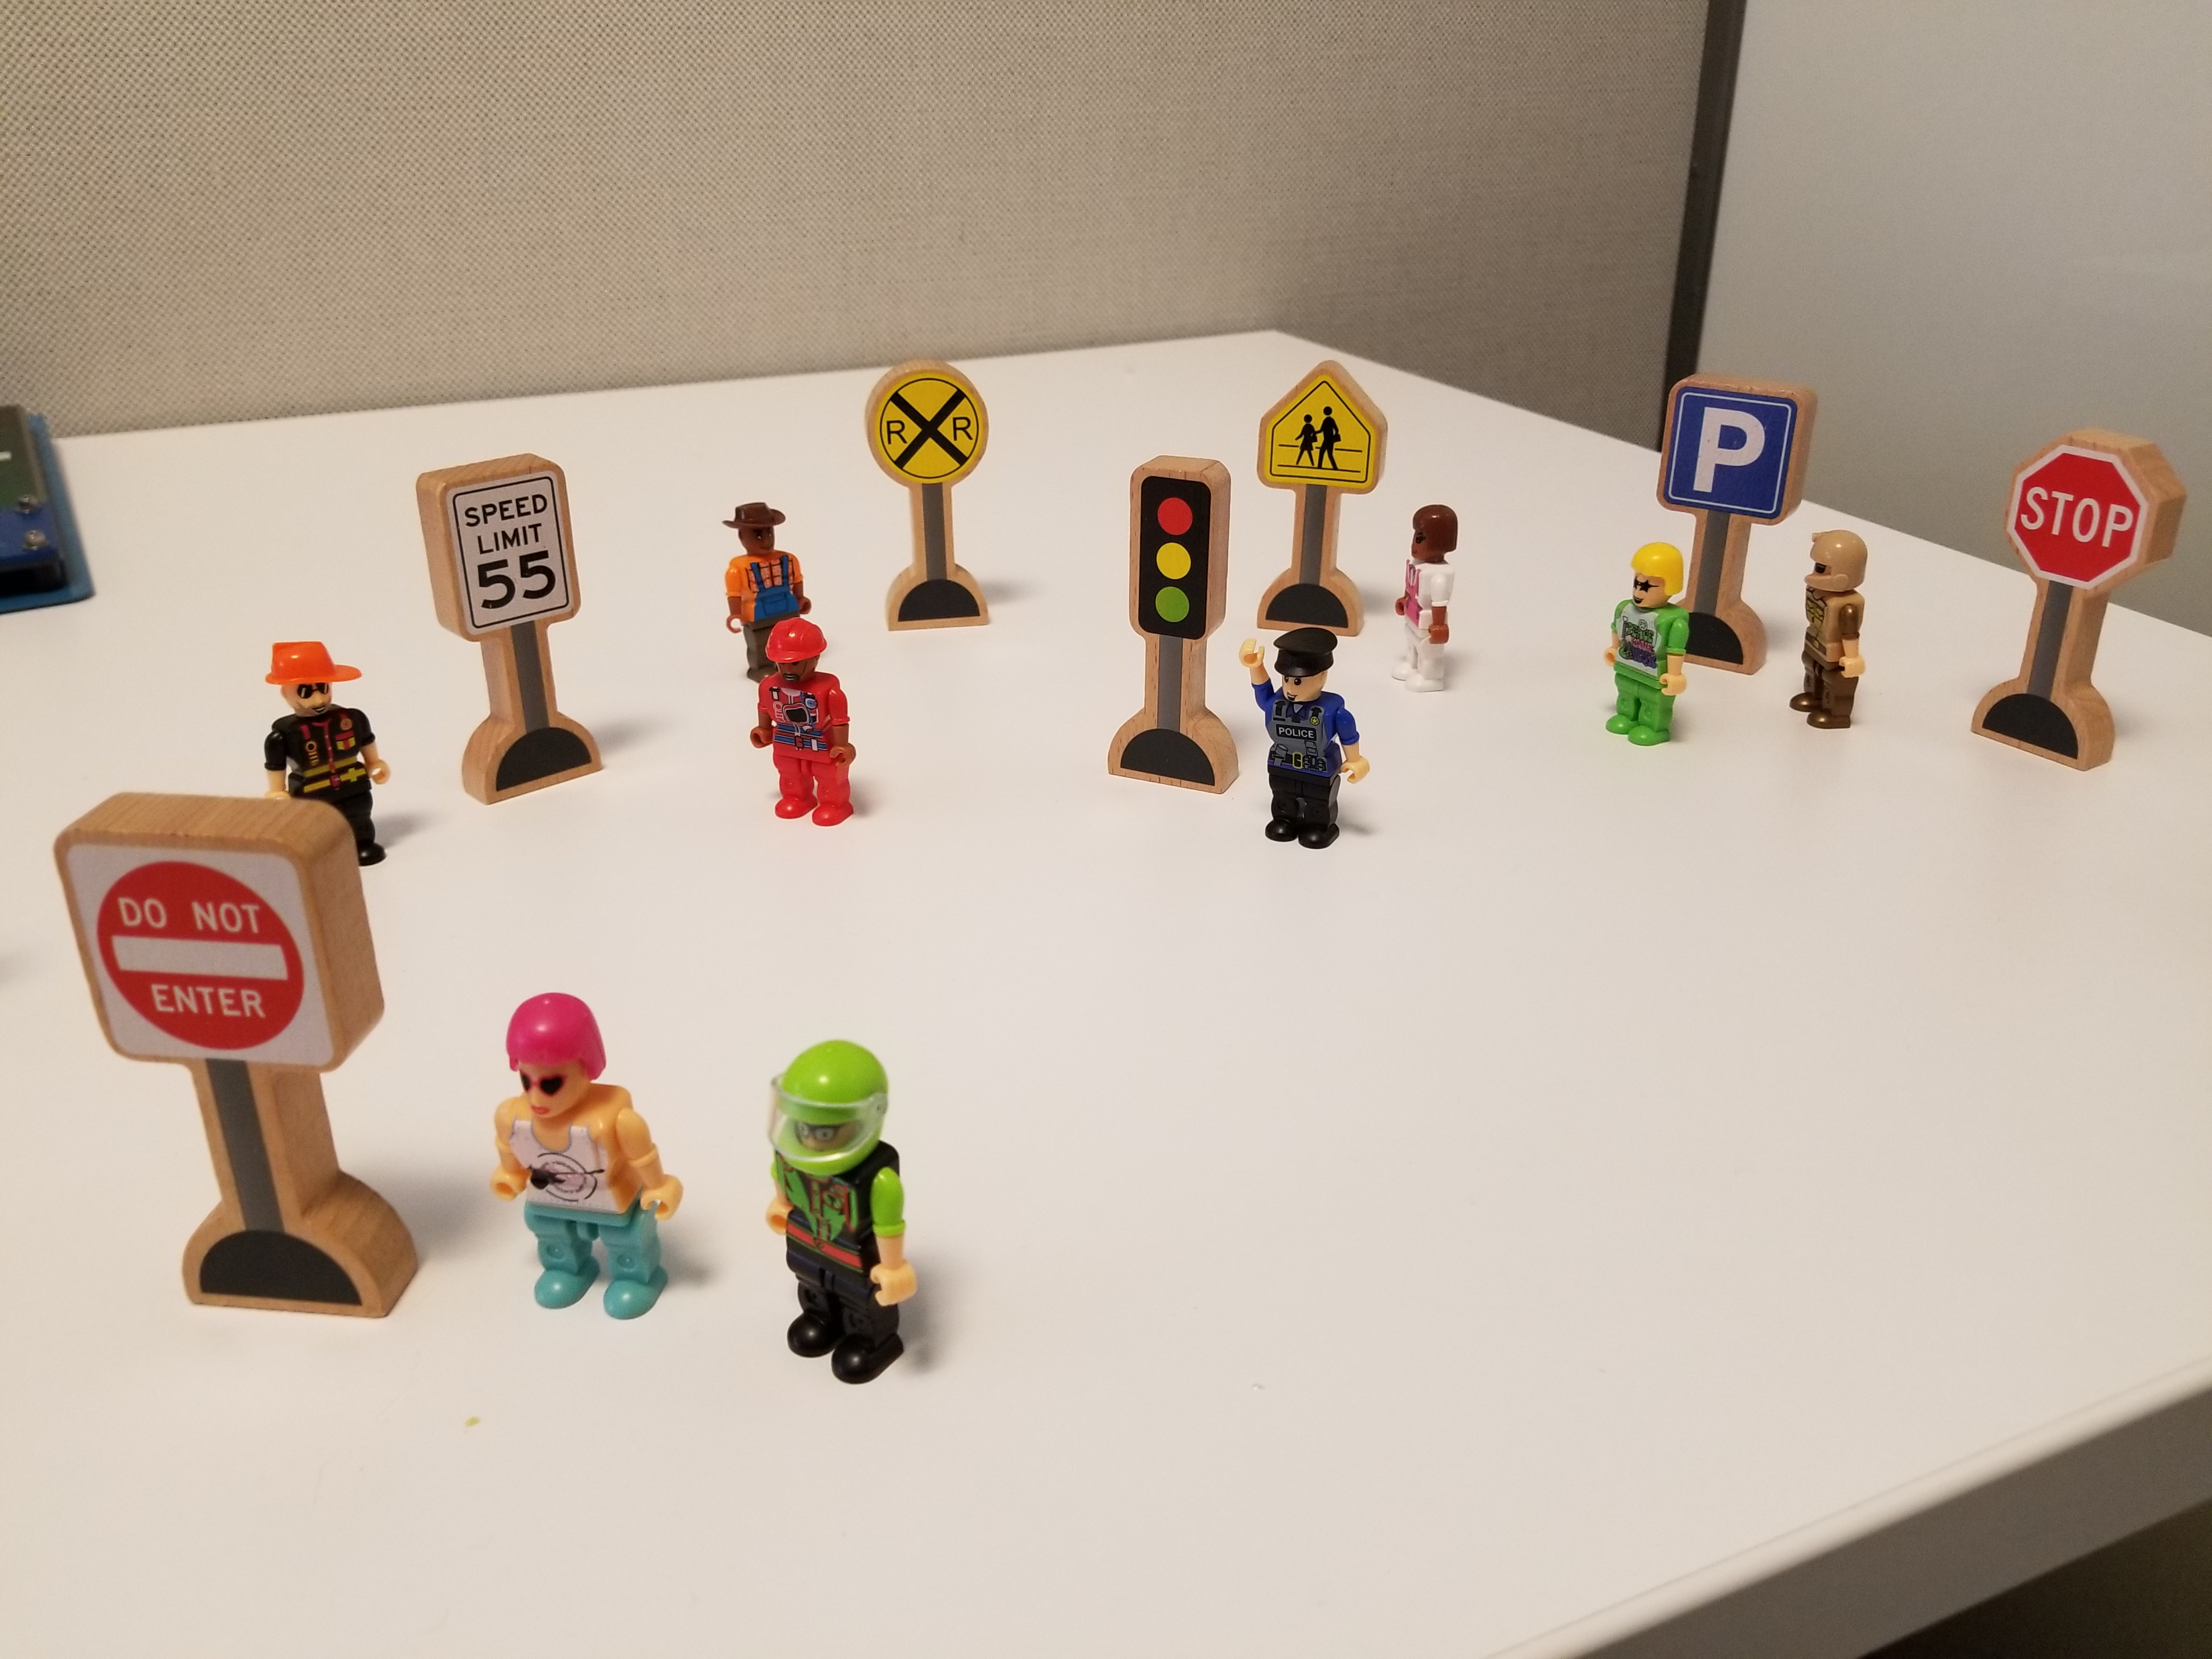Do not enter: (32, 787, 479, 1359), (436, 433, 655, 831)
Parking: (1654, 350, 1818, 528)
Pedestrian crossing: (1241, 337, 1401, 635)
Railroad Crossing: (855, 321, 1048, 692)
Stop: (1998, 400, 2178, 826)
Traffic Light: (1098, 422, 1241, 811)
person: (732, 1017, 964, 1430), (477, 986, 677, 1370), (1228, 607, 1386, 874), (712, 611, 905, 831), (258, 622, 418, 817), (1801, 515, 1906, 778), (1594, 550, 1713, 778), (1397, 490, 1489, 708), (712, 473, 831, 618)
